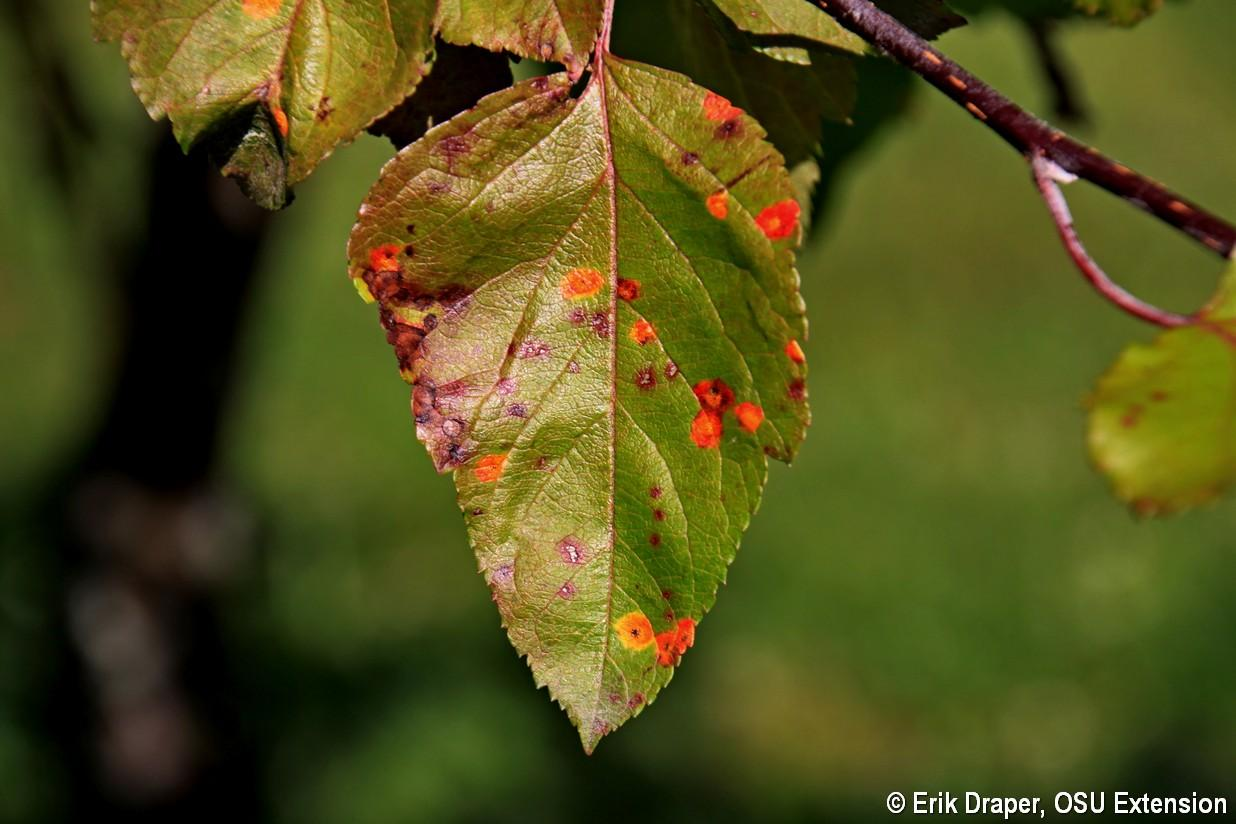Apple rust leaf: (347, 47, 844, 778)
